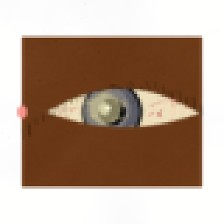corneal_ulcer: (79, 89, 131, 130)
